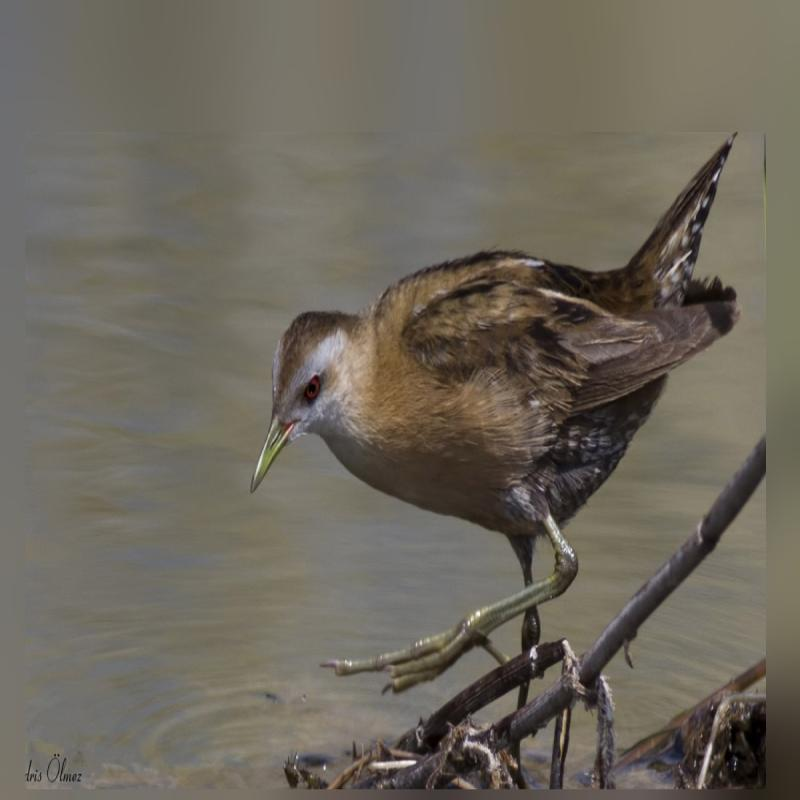little crake: (249, 131, 752, 607)
